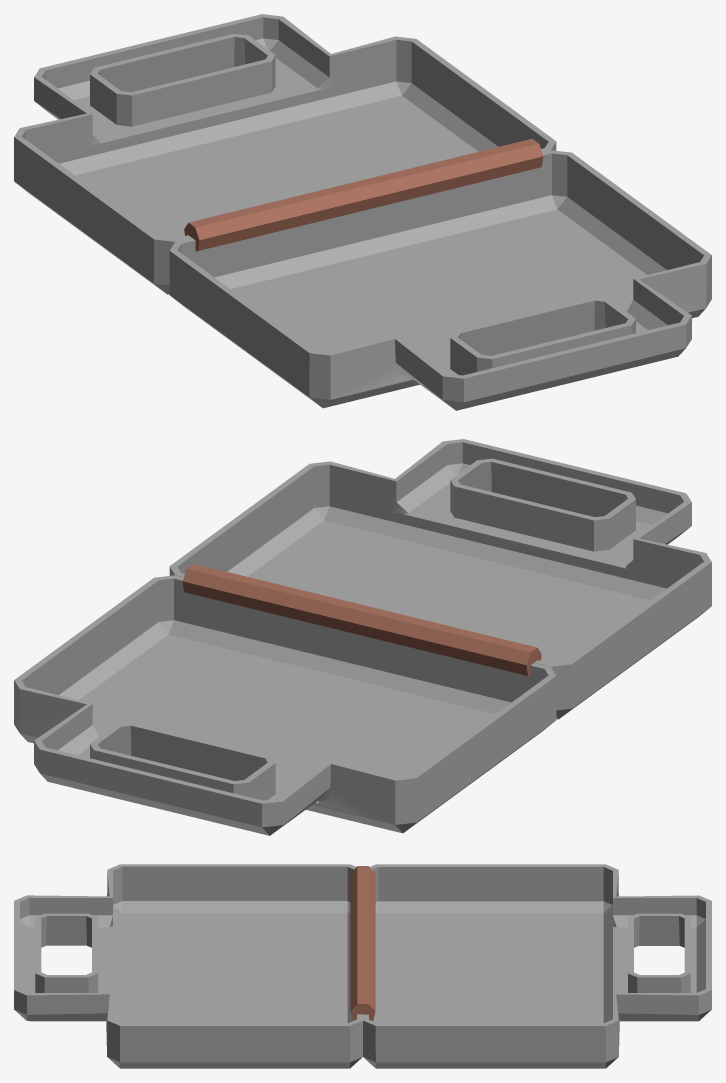
File: MedkitOpen.fbx
3 views of the same model, one above another, from view 1: azimuth 30°, elevation 25°; view 2: azimuth 150°, elevation 25°; view 3: azimuth 270°, elevation 25° (orthographic). The views are drawn at different scales.
Visible parts, largest first — view 1: polySurface300; view 2: polySurface300; view 3: polySurface300.
Part boxes in pixels (bbox=[...]): polySurface300: bbox=[14, 14, 711, 410]; polySurface300: bbox=[14, 439, 711, 835]; polySurface300: bbox=[14, 864, 711, 1068].
Size of the model in its own units: 215 by 36.44 by 393.
